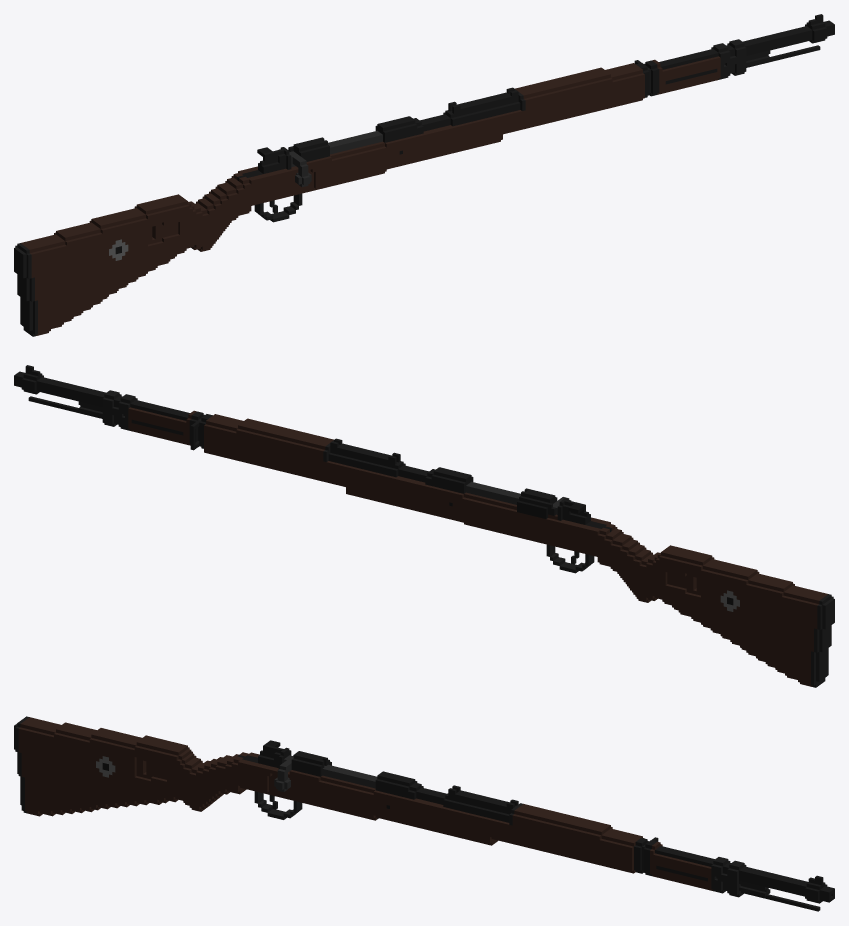
File: Kar98k_prefab.obj
The picture shows the model from 3 angles, top to bottom: view 1: azimuth 30°, elevation 25°; view 2: azimuth 150°, elevation 25°; view 3: azimuth 330°, elevation 25°; orthographic projection.
Bounding box in the file's own units: 25.2 × 3.7 × 1.3.
Materials: 1 (1 with a texture image).
